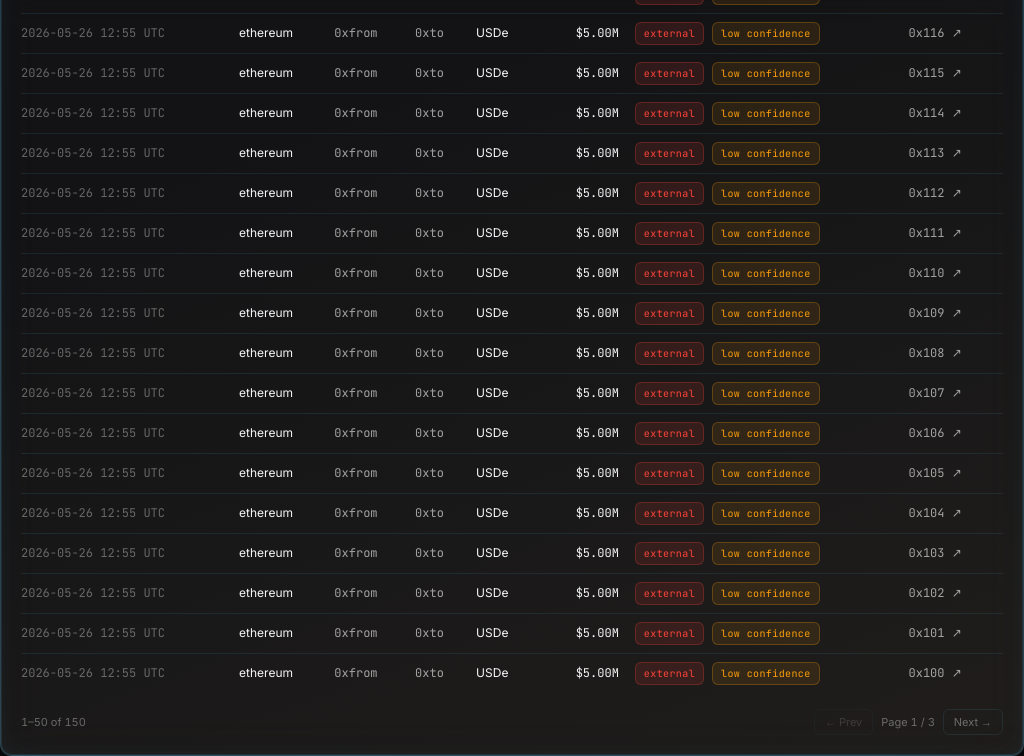
Test: FlowsTable › paginates 50 rows per page and pages through with Next
(page scrolled)
Expected: the text "1–50 of 150" is shown, [21,714,86,730]
Expected: the text "Page 1 / 3" is shown, [881,714,935,730]
Click the button "Next →". click: {"x": 973, "y": 722}
box: [943,708,1003,735]
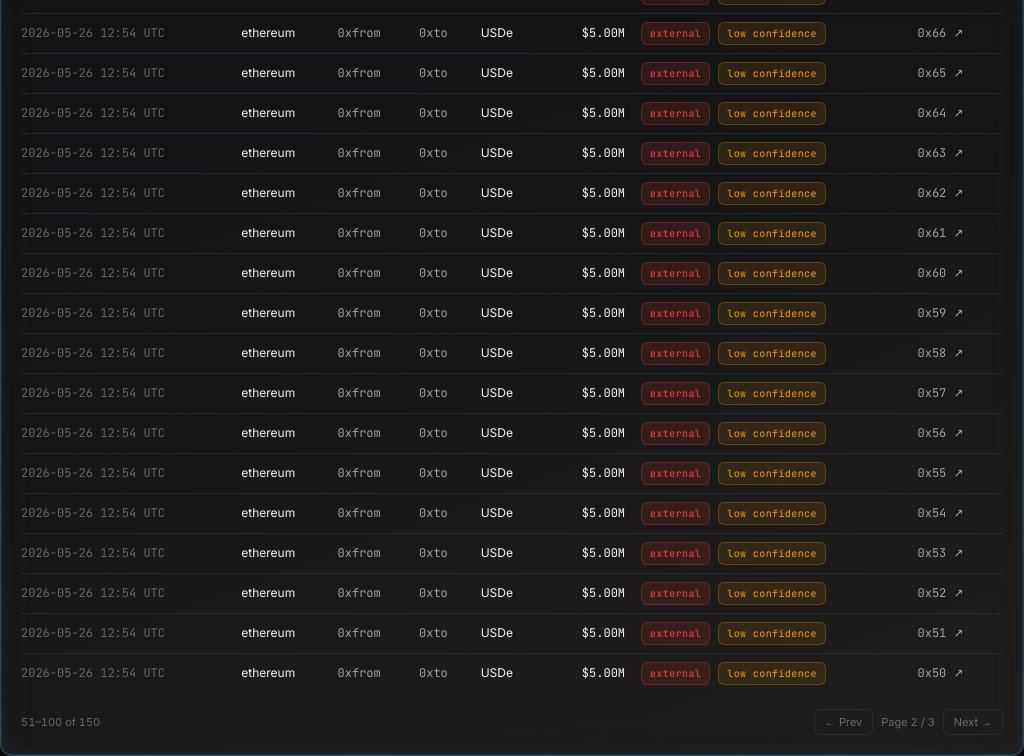
Result: the text "51–100 of 150" is shown at [21,714,100,730]
Result: the text "Page 2 / 3" is shown at [881,714,935,730]
